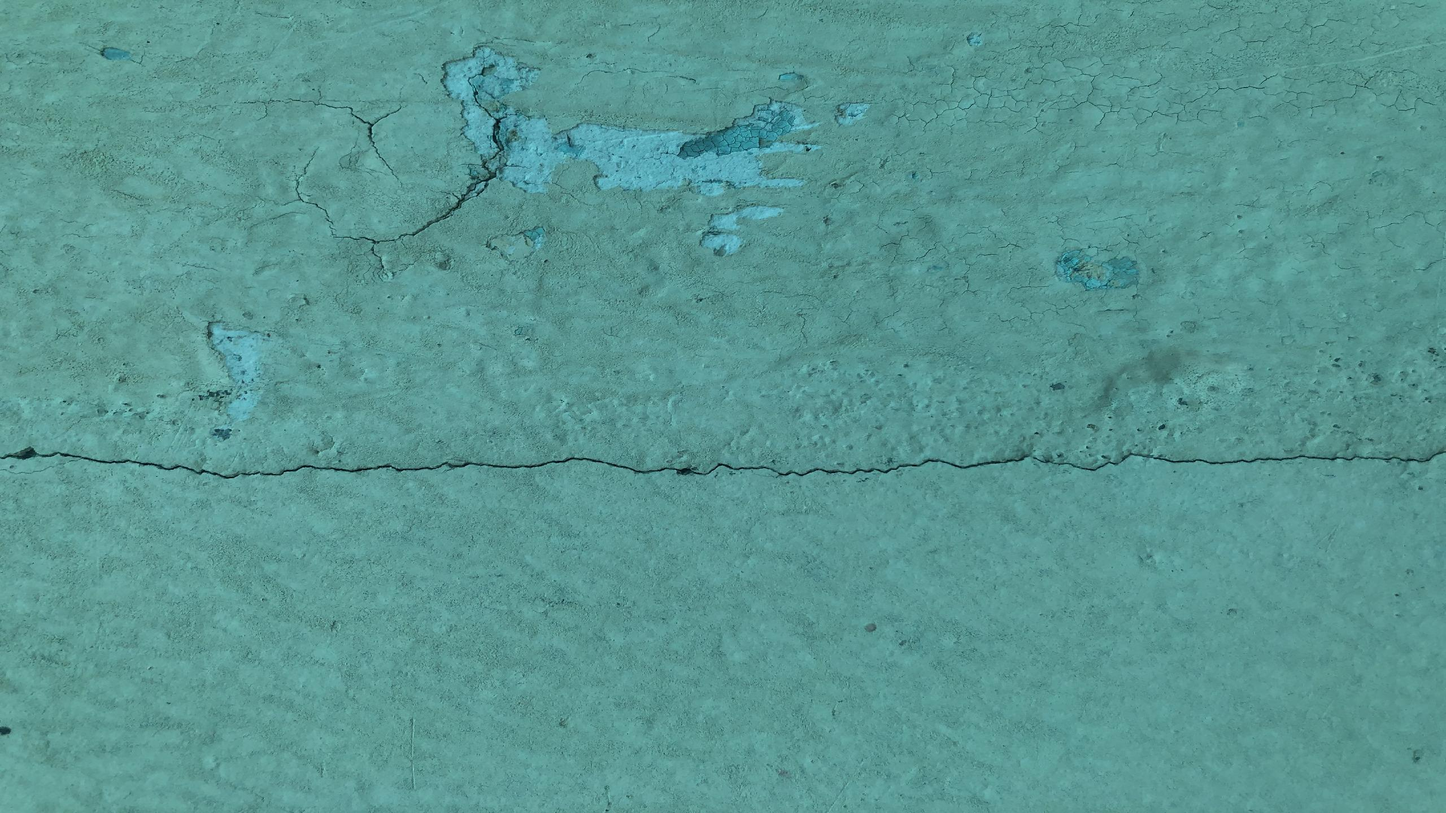crack: (0, 450, 1445, 479)
